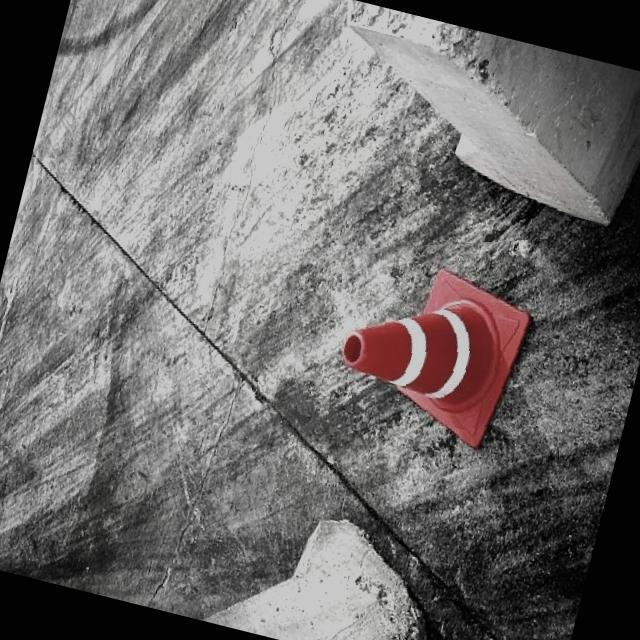traffic cone: (342, 269, 532, 450)
